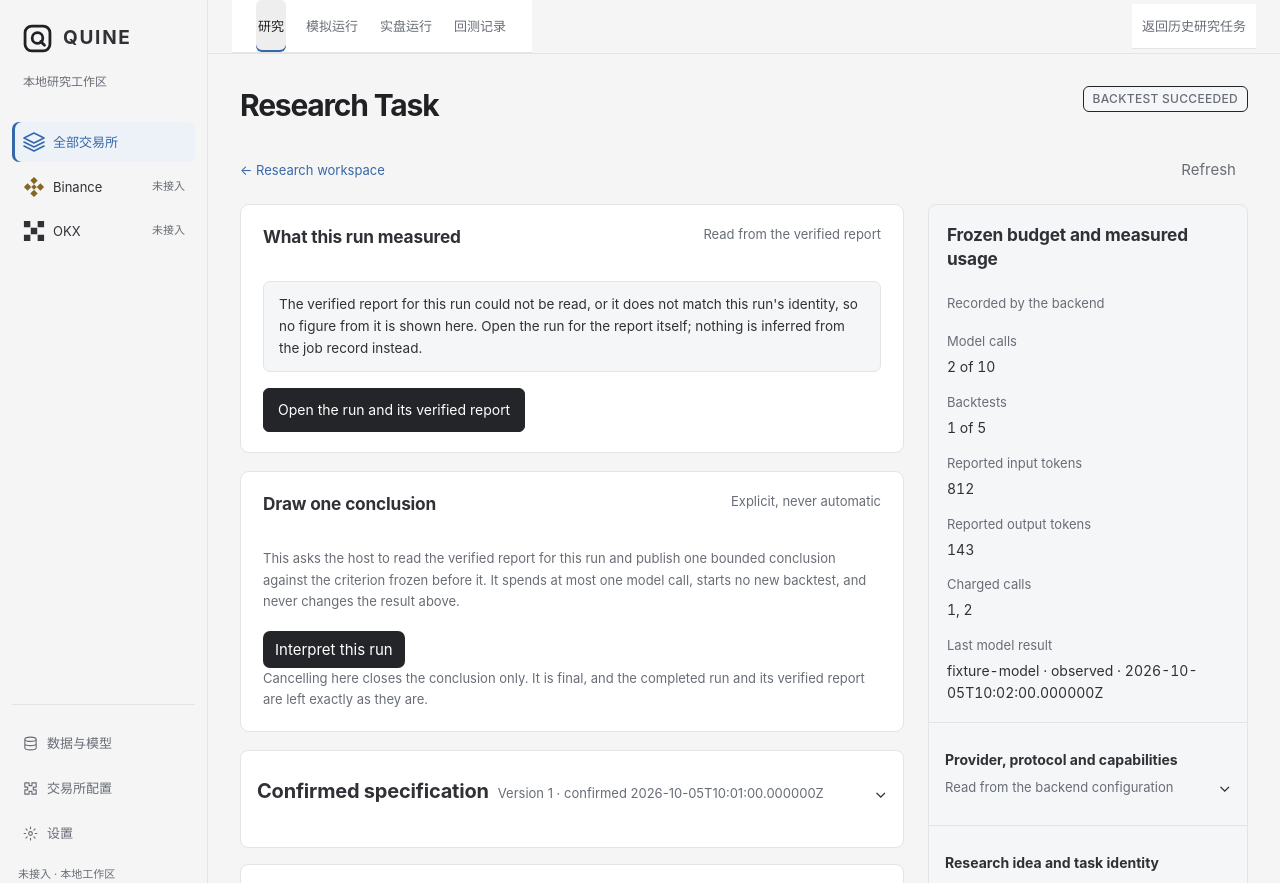
the conclusion for one verified run › asks the host exactly once, and only when the button is pressed
The image size is (1280, 883).
Expected: the heading "Research Task" is shown, [240, 86, 438, 125]
Click the button "Interpret this run": (334, 649) [263, 631, 405, 668]
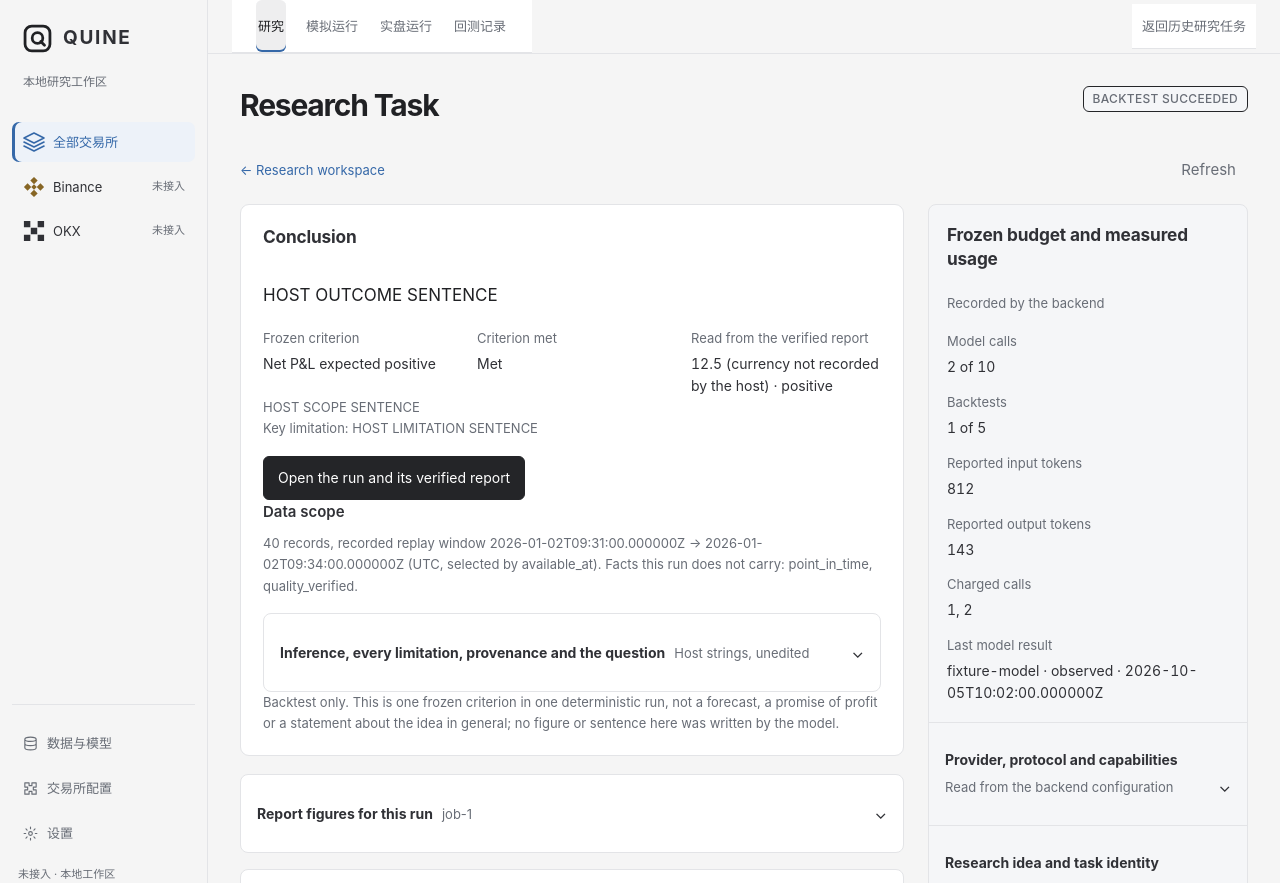
Expected: the element "Conclusion" shows "HOST OUTCOME SENTENCE", [263, 285, 498, 305]
Expected: the button "Interpret this run" is gone
